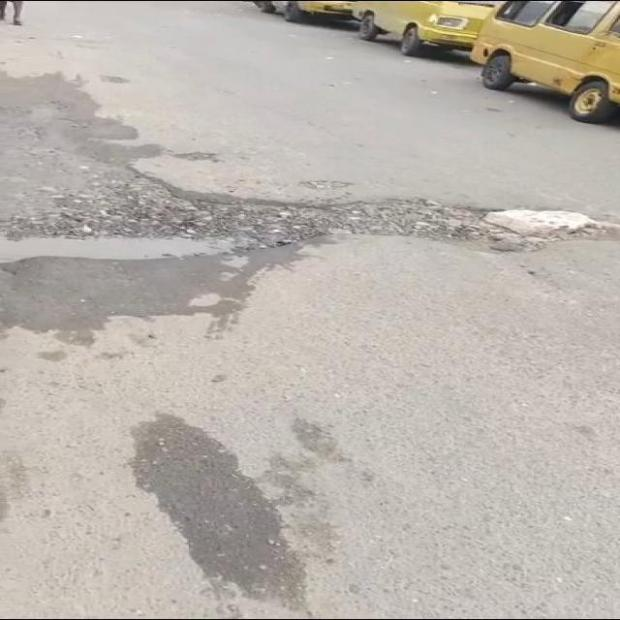lubang: (0, 159, 619, 263)
